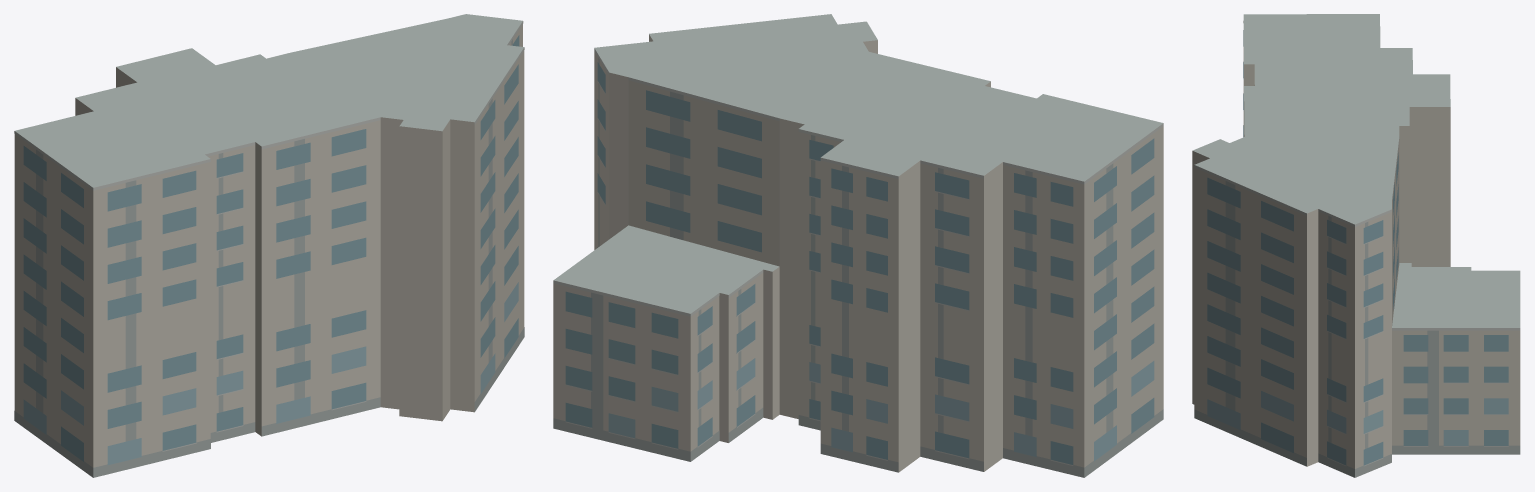
File: residential-301960c8-c1ec-4ad3-8178-8f402bb02250.glb
3 renders of one model, left to right at view 1: azimuth 30°, elevation 25°; view 2: azimuth 150°, elevation 25°; view 3: azimuth 270°, elevation 25°, orthographic. The views are drawn at different scales.
Visible parts, largest first — view 1: residential-301960c8-c1ec-4ad3-8178-8f402bb02250.tmp; view 2: residential-301960c8-c1ec-4ad3-8178-8f402bb02250.tmp; view 3: residential-301960c8-c1ec-4ad3-8178-8f402bb02250.tmp.
Boxes of the visible parts, x1,y1,x2,y2 form: residential-301960c8-c1ec-4ad3-8178-8f402bb02250.tmp: (14,14,524,477); residential-301960c8-c1ec-4ad3-8178-8f402bb02250.tmp: (553,14,1163,477); residential-301960c8-c1ec-4ad3-8178-8f402bb02250.tmp: (1192,14,1520,477).
Size of the model in its own units: 43.52 by 24.4 by 28.66.
